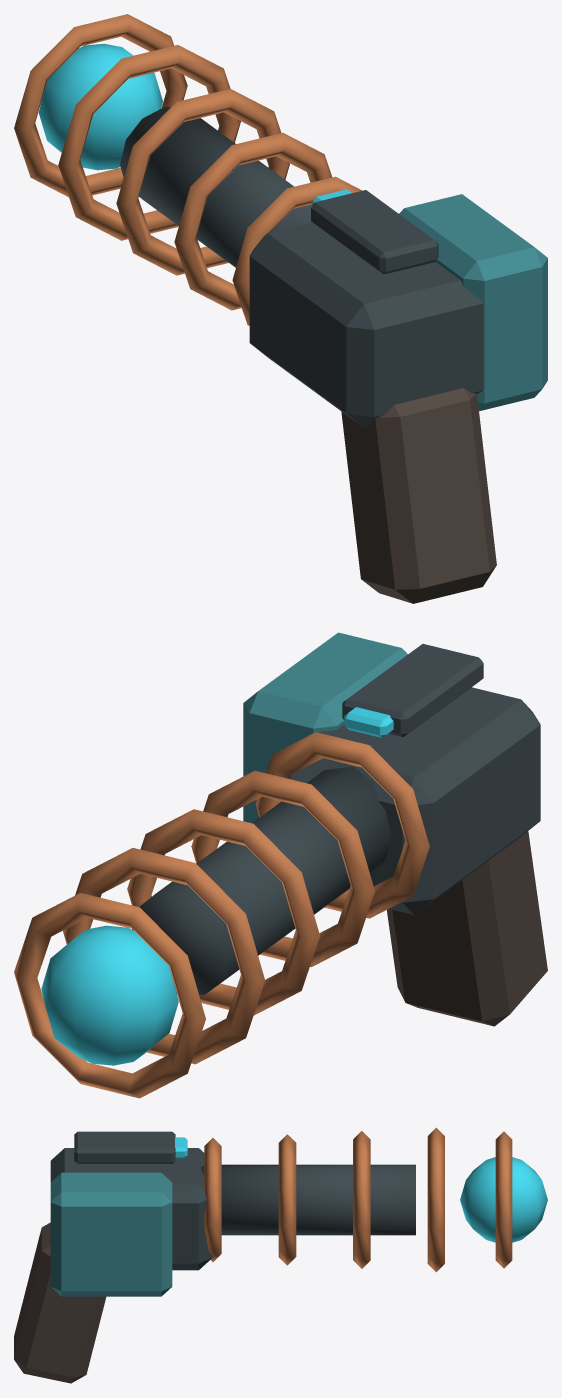
Rendered from TeslaCoil.glb.
3 views of the same model, one above another, from view 1: azimuth 30°, elevation 25°; view 2: azimuth 150°, elevation 25°; view 3: azimuth 270°, elevation 25° (orthographic). The views are drawn at different scales.
Visible parts, largest first — view 1: Receiver, Grip, Battery pack, Coil core, Energy emitter, Copper coil ring.003, Copper coil ring.002, Emitter guard, Copper coil ring.001, Top rail, Copper coil ring; view 2: Receiver, Coil core, Grip, Energy emitter, Emitter guard, Battery pack, Copper coil ring.003, Copper coil ring.002, Copper coil ring.001, Copper coil ring, Top rail, Charge indicator; view 3: Battery pack, Coil core, Grip, Receiver, Energy emitter, Top rail, Copper coil ring.003, Copper coil ring.002, Emitter guard, Copper coil ring.001, Copper coil ring.
Boxes of the visible parts, box(x1,y1,x2,y2) form: Receiver: box(249, 222, 483, 427); Grip: box(341, 388, 496, 603); Battery pack: box(399, 194, 547, 411); Coil core: box(120, 107, 312, 267); Energy emitter: box(38, 43, 162, 170); Copper coil ring.003: box(58, 45, 240, 240); Copper coil ring.002: box(116, 89, 289, 275); Emitter guard: box(14, 14, 187, 197); Copper coil ring.001: box(174, 133, 332, 310); Top rail: box(311, 190, 438, 274); Copper coil ring: box(232, 176, 361, 325); Receiver: box(290, 687, 540, 914); Coil core: box(132, 766, 391, 994); Grip: box(387, 831, 547, 1026); Energy emitter: box(41, 925, 178, 1065); Emitter guard: box(14, 893, 205, 1098); Battery pack: box(243, 632, 407, 823); Copper coil ring.003: box(63, 848, 265, 1064); Copper coil ring.002: box(127, 809, 319, 1015); Copper coil ring.001: box(191, 770, 374, 967); Copper coil ring: box(255, 732, 429, 918); Top rail: box(342, 644, 483, 737); Charge indicator: box(344, 707, 393, 737); Battery pack: box(50, 1172, 172, 1296); Coil core: box(200, 1164, 415, 1235); Grip: box(14, 1222, 106, 1383); Receiver: box(50, 1148, 212, 1270); Energy emitter: box(460, 1157, 547, 1242); Top rail: box(74, 1131, 175, 1163); Copper coil ring.003: box(427, 1127, 444, 1272); Copper coil ring.002: box(353, 1131, 370, 1268); Emitter guard: box(495, 1131, 512, 1268); Copper coil ring.001: box(278, 1134, 296, 1265); Copper coil ring: box(204, 1138, 221, 1261).
Bounding box in the file's own units: 0.516 × 0.766 × 1.58.
